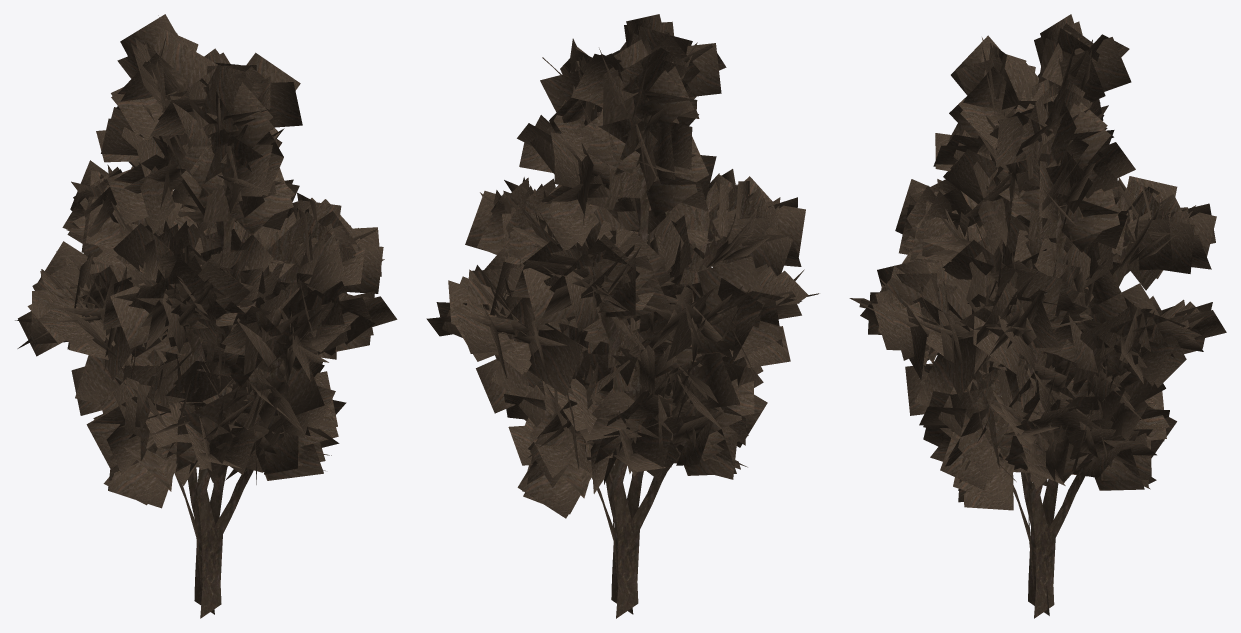
The model's file is birch.glb.
The picture shows the model from 3 angles, left to right: view 1: azimuth 30°, elevation 25°; view 2: azimuth 150°, elevation 25°; view 3: azimuth 270°, elevation 25°; orthographic projection. The views are drawn at different scales.
Parts seen in each view (by area): view 1: org_birch; view 2: org_birch; view 3: org_birch.
Part boxes in pixels (bbox=[...]): org_birch: bbox=[15, 14, 397, 618]; org_birch: bbox=[426, 14, 819, 618]; org_birch: bbox=[849, 14, 1226, 618].
Size of the model in its own units: 1.46 by 2.4 by 1.42.
Materials: 1 (1 with a texture image).
